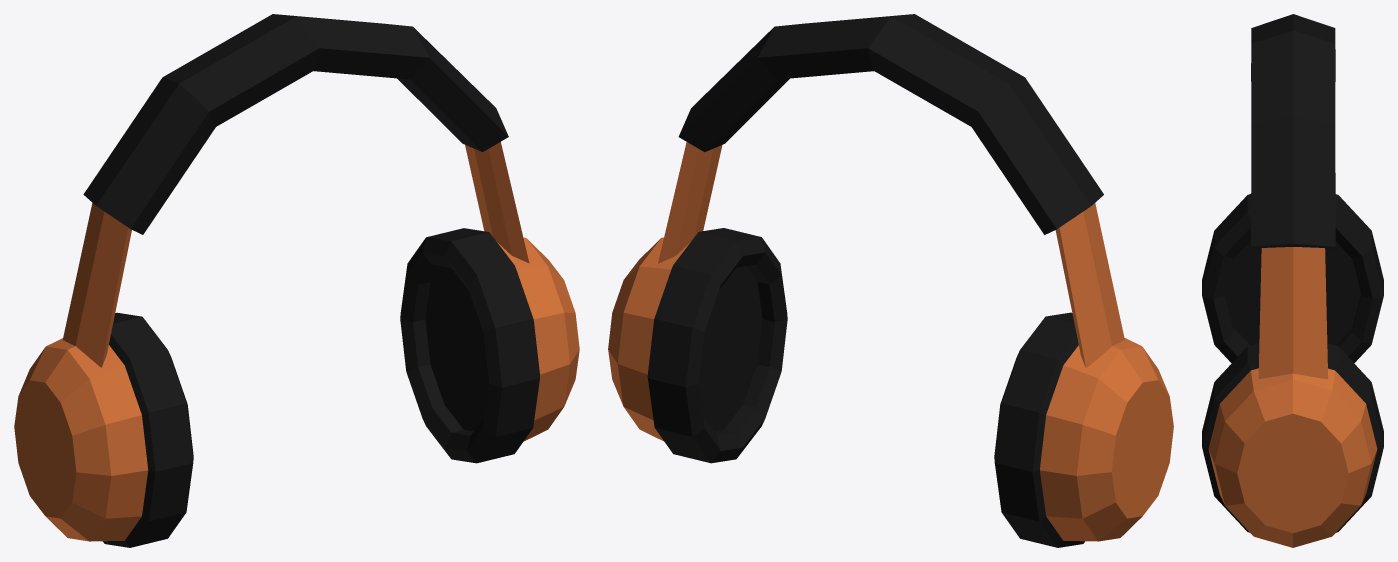
Rendered from Headphones.glb.
The picture shows the model from 3 angles, left to right: view 1: azimuth 30°, elevation 25°; view 2: azimuth 150°, elevation 25°; view 3: azimuth 270°, elevation 25°; orthographic projection. The views are drawn at different scales.
Parts seen in each view (by area): view 1: Headphones; view 2: Headphones; view 3: Headphones.
Part boxes in pixels (x1=…): Headphones: x1=14, y1=14, x2=579, y2=547; Headphones: x1=608, y1=14, x2=1173, y2=547; Headphones: x1=1202, y1=14, x2=1383, y2=547.
Bounding box in the file's own units: 0.1331 × 0.1214 × 0.0465.
Materials: 1 (1 with a texture image).
